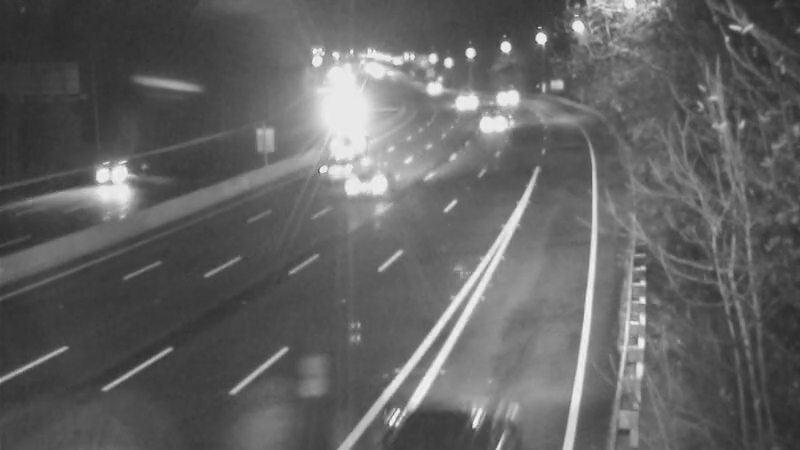vehicle: (381, 360, 491, 450), (300, 128, 380, 208), (334, 140, 414, 220), (66, 138, 146, 218), (405, 63, 455, 113), (481, 73, 531, 123), (436, 81, 486, 131), (457, 103, 507, 153), (318, 113, 368, 163), (325, 85, 375, 135)
